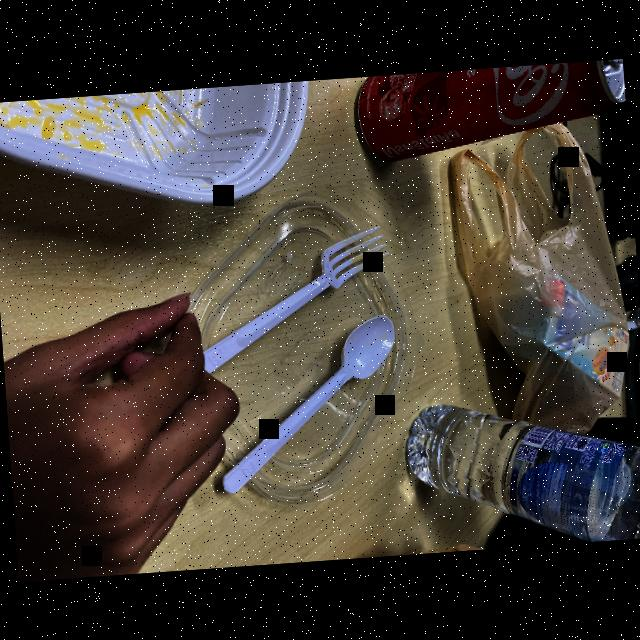plastic_cultery: (198, 308, 420, 504), (187, 216, 400, 380)
